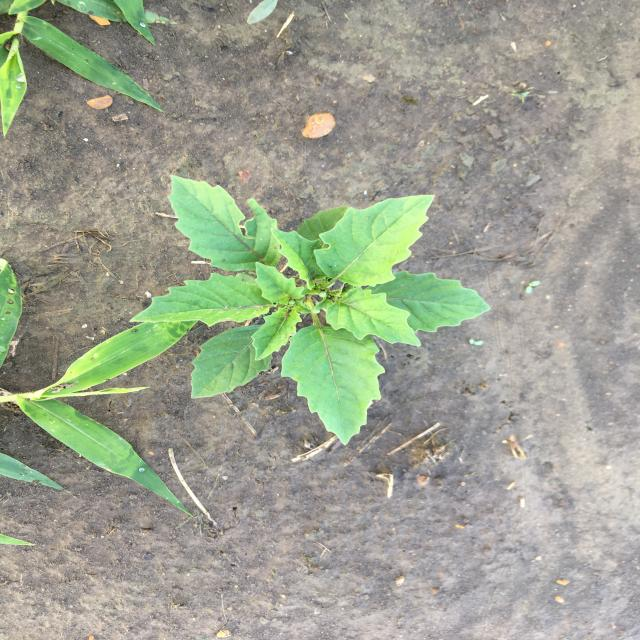CutleafGroundcherry: (126, 173, 495, 448)
